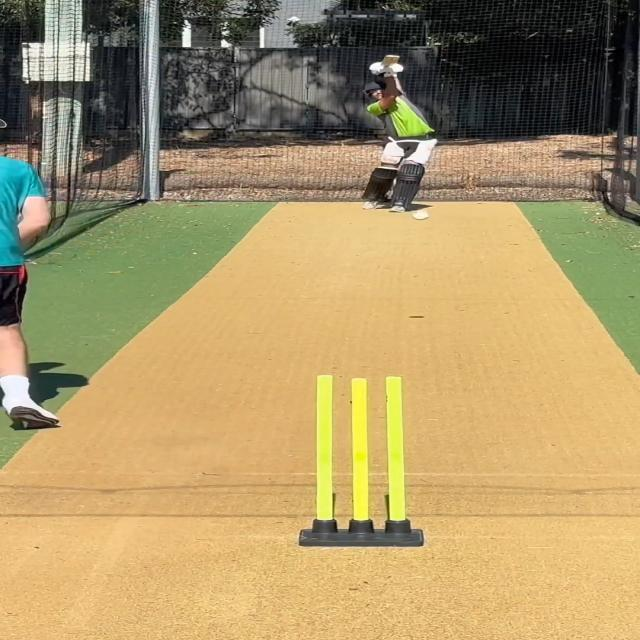ball: (407, 208, 435, 224)
stump: (295, 373, 423, 548)
